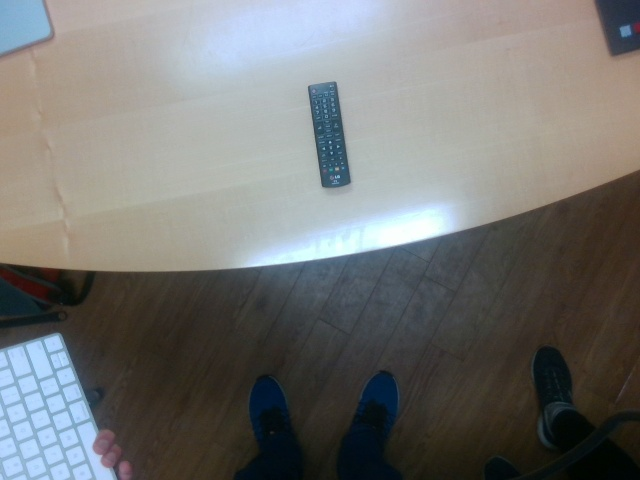remote: (307, 81, 353, 189)
